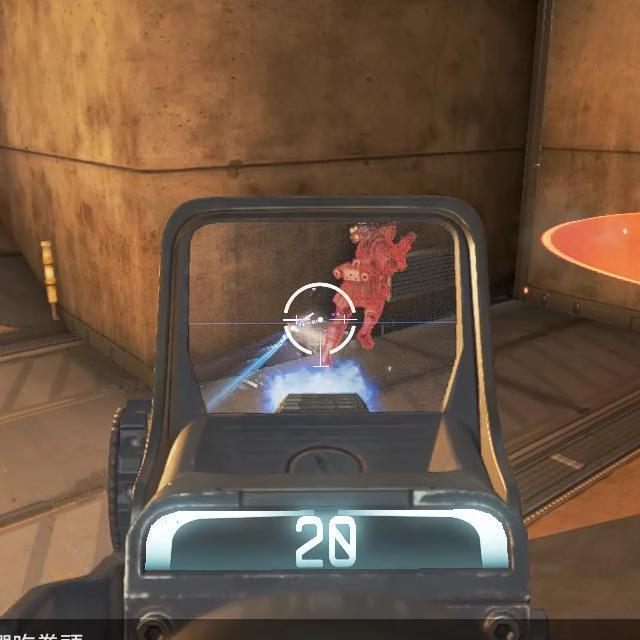avatar: (330, 217, 417, 351)
